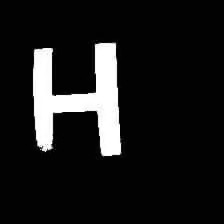LTR_H: (22, 35, 128, 168)
